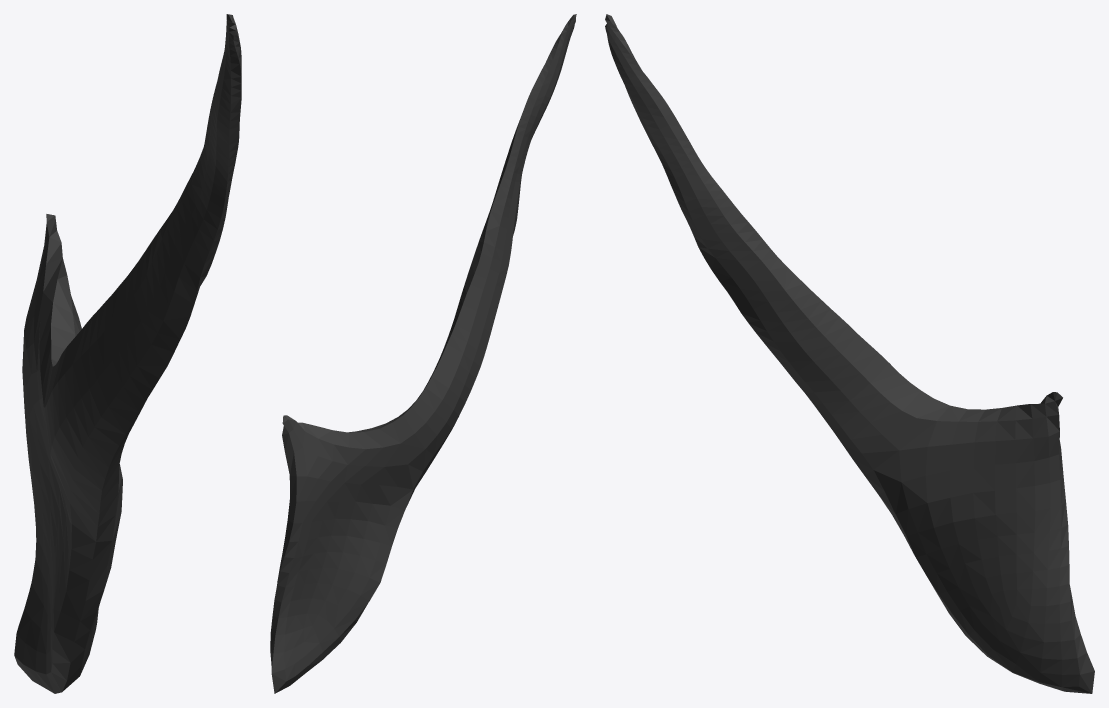
File: Serratus_cervicis.glb
The picture shows the model from 3 angles, left to right: view 1: azimuth 30°, elevation 25°; view 2: azimuth 150°, elevation 25°; view 3: azimuth 270°, elevation 25°; orthographic projection. The views are drawn at different scales.
Parts seen in each view (by area): view 1: Serratus_cervicis; view 2: Serratus_cervicis; view 3: Serratus_cervicis.
Boxes of the visible parts, box(x1,y1,x2,y2) form: Serratus_cervicis: box(14, 14, 241, 693); Serratus_cervicis: box(270, 14, 576, 693); Serratus_cervicis: box(605, 14, 1094, 693).
Bounding box in the file's own units: 0.1929 × 0.9593 × 0.6772.
1 material, 1 textured.
